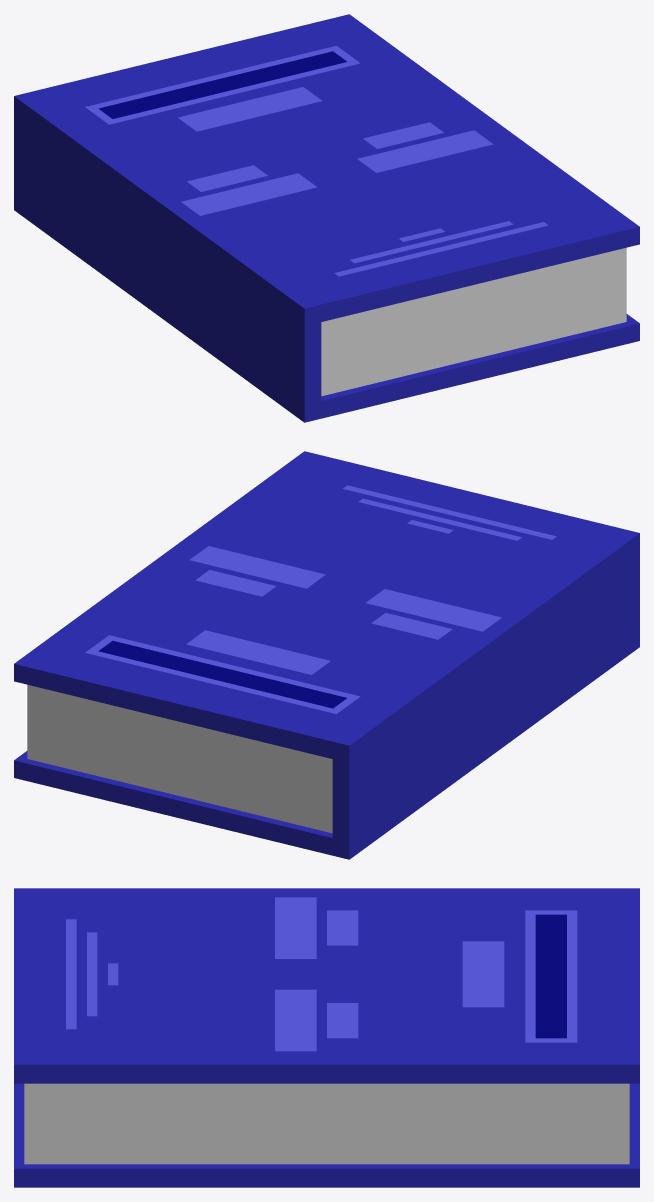
File: Book1.obj
3 views of the same model, one above another, from view 1: azimuth 30°, elevation 25°; view 2: azimuth 150°, elevation 25°; view 3: azimuth 270°, elevation 25° (orthographic). The views are drawn at different scales.
Bounding box in the file's own units: 4 × 1.3 × 6.
Materials: 1 (1 with a texture image).
